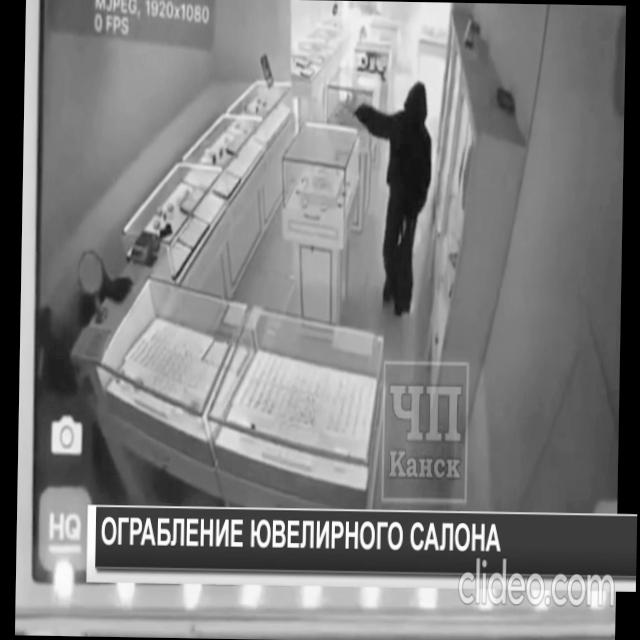gun: (341, 94, 368, 125)
person with a gun: (348, 77, 432, 318)
